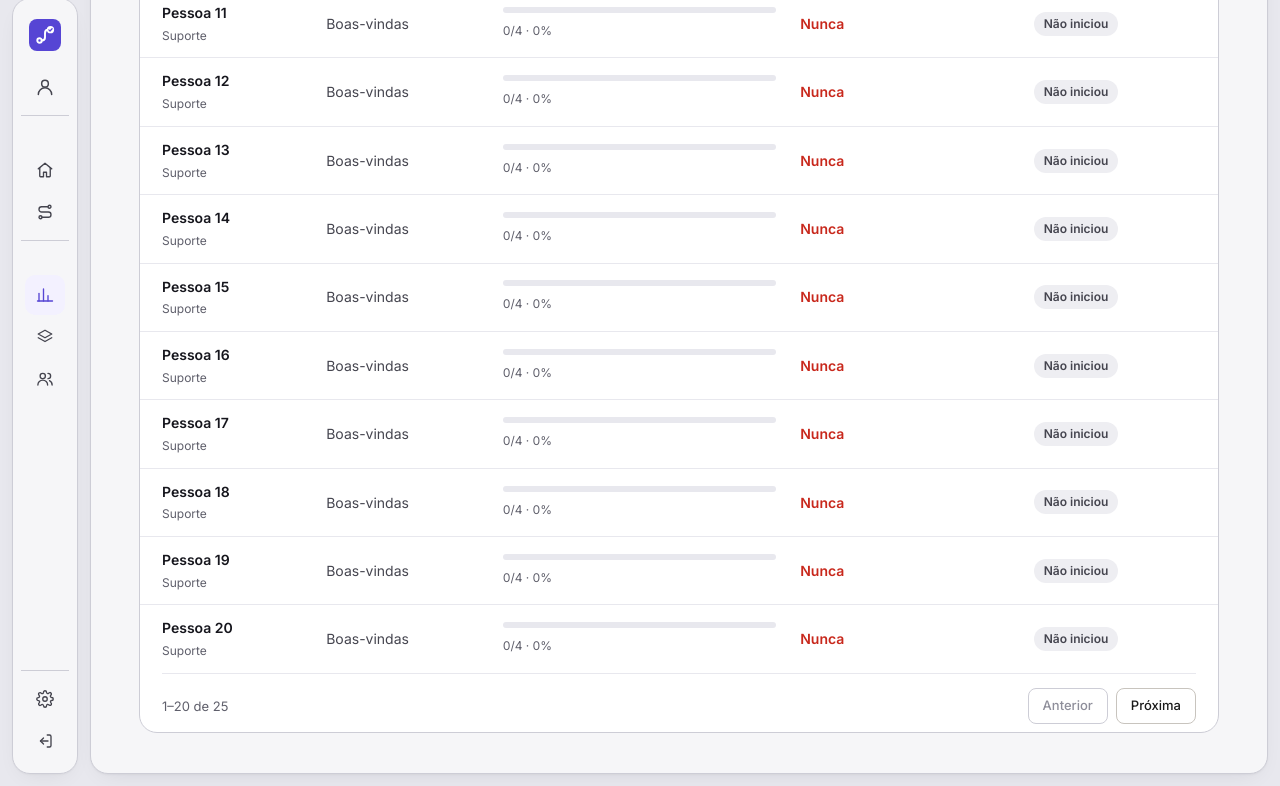
Test: painel do gestor › pagina a tabela por pessoa e trilha e volta à primeira página ao filtrar
(page scrolled)
expect the text "1–20 de 25" is shown: met, box [162,696,228,716]
expect the text "Pessoa 20" is shown: met, box [162,620,233,636]
Step 1. Click the button "Próxima" → point(1156, 706), box [1116,688,1196,724]
(page scrolled)
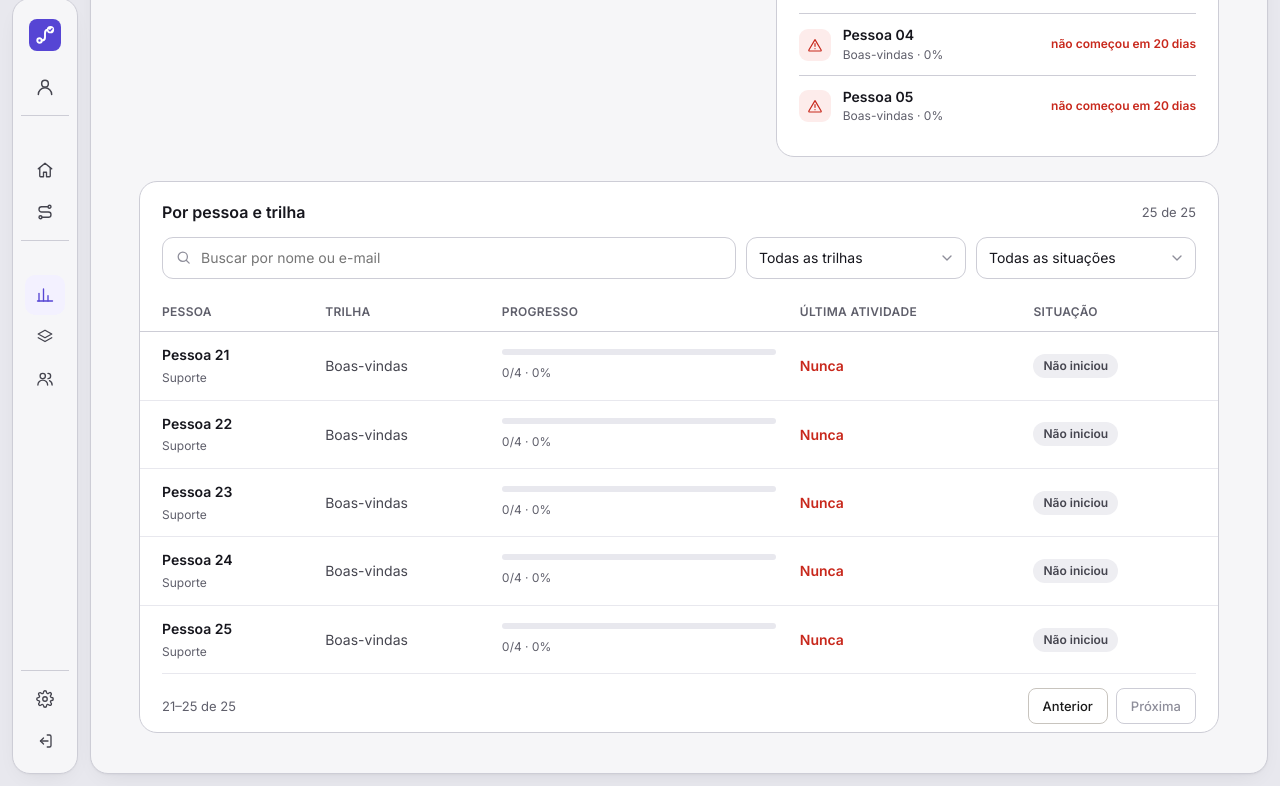
expect the text "21–25 de 25" is shown: met, box [162,696,236,716]
expect the text "Pessoa 25" is shown: met, box [162,620,232,637]
expect the button "Próxima" is disabled: met, box [1116,688,1196,724]
Step 2. Type "Pessoa 0" into the search field named "Buscar pessoa" → point(449, 258), box [162,237,736,279]
(page scrolled)
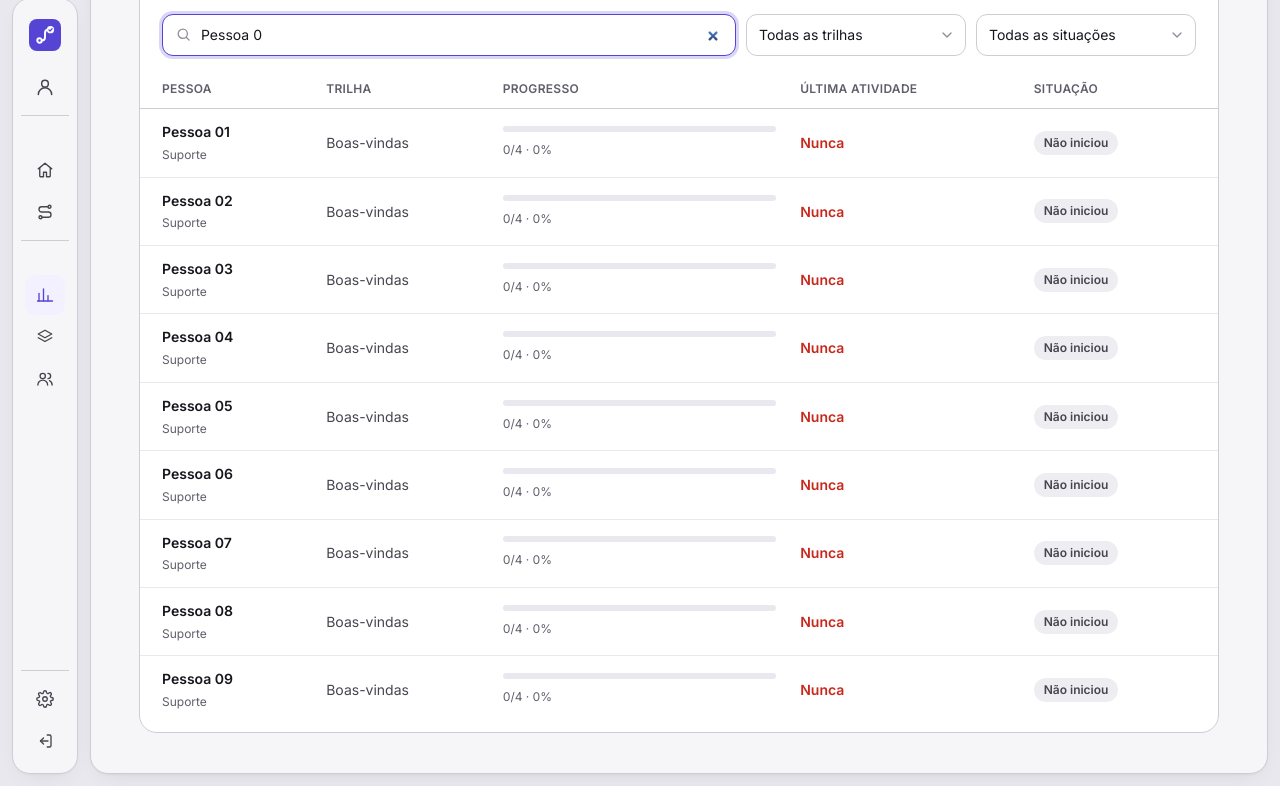
expect the text "Pessoa 09" is shown: met, box [162,670,233,687]
